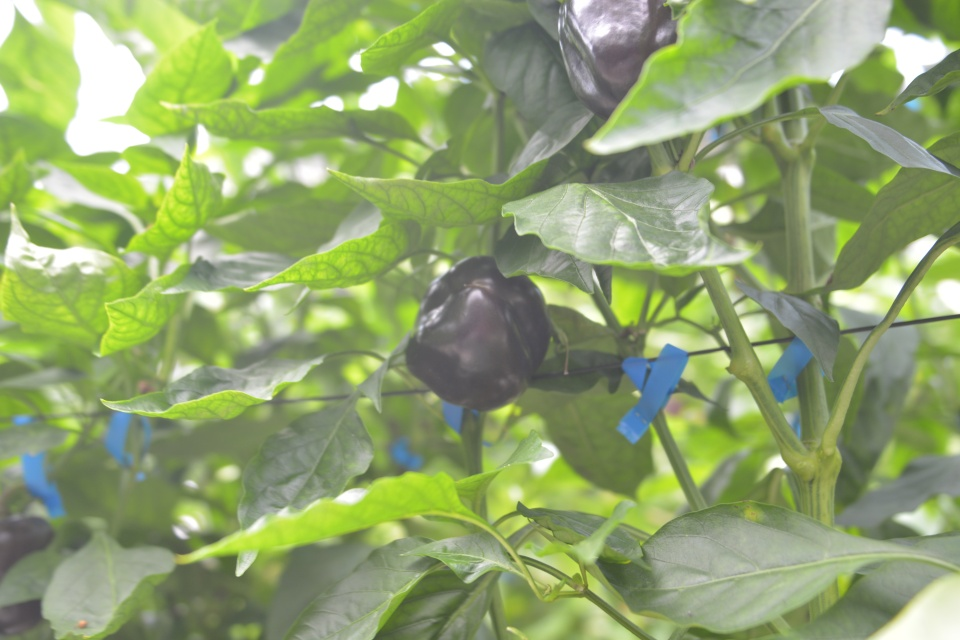fruit: (402, 252, 556, 414), (554, 0, 680, 123), (0, 512, 58, 640)
